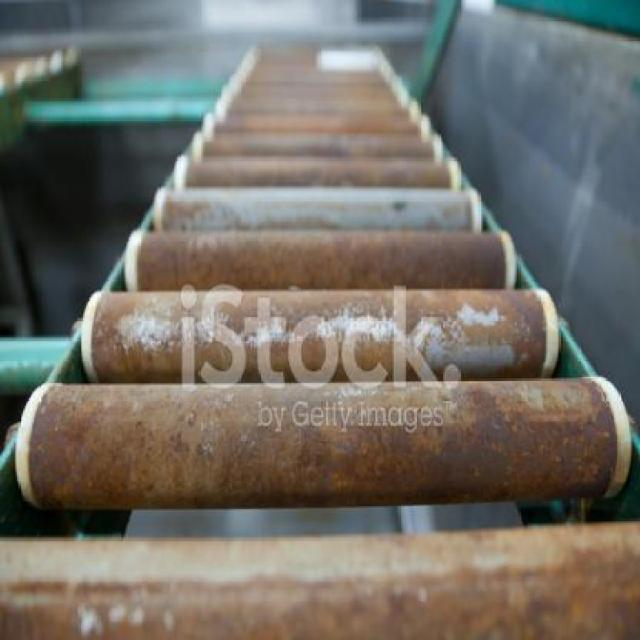corrosion: (7, 10, 640, 635)
